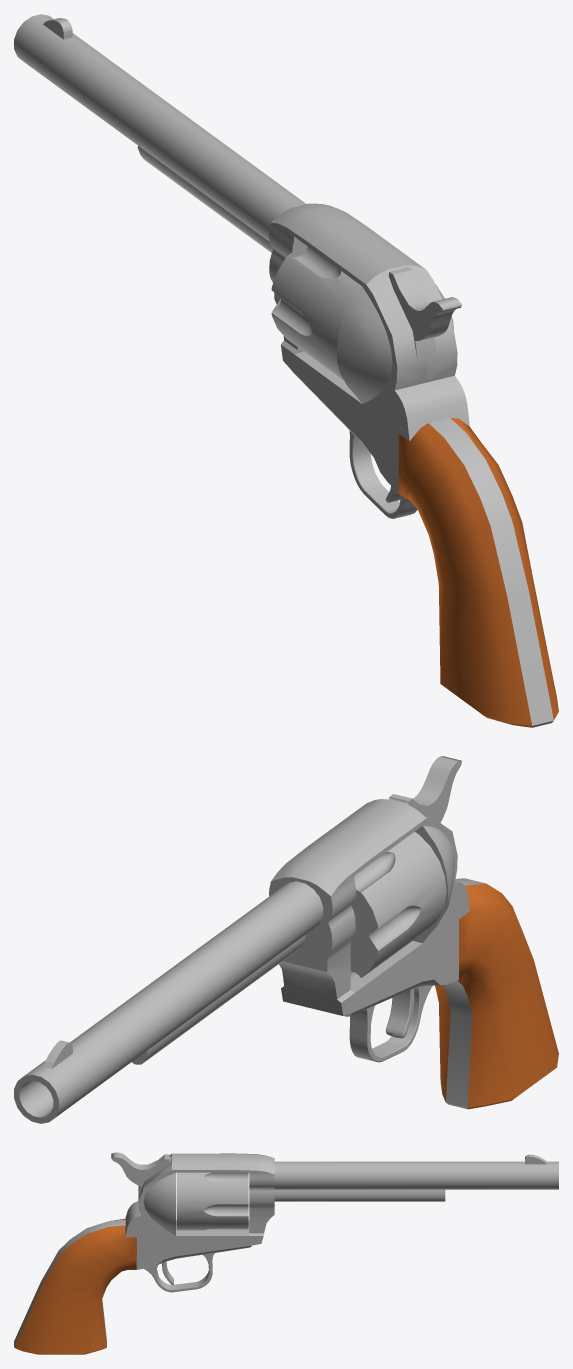
File: ColtSingleActionArmy.fbx
The picture shows the model from 3 angles, top to bottom: view 1: azimuth 30°, elevation 25°; view 2: azimuth 150°, elevation 25°; view 3: azimuth 270°, elevation 25°; orthographic projection. The views are drawn at different scales.
Visible parts, largest first — view 1: Frame, Cylinder; view 2: Frame, Cylinder; view 3: Frame, Cylinder.
Part boxes in pixels (x1,y1,x2,y2): Frame: (14,14,558,727); Cylinder: (271,244,362,380); Frame: (14,756,558,1123); Cylinder: (350,831,446,978); Frame: (14,1152,558,1354); Cylinder: (176,1172,248,1230).
Bounding box in the file's own units: 6.28 × 19.22 × 49.71.
